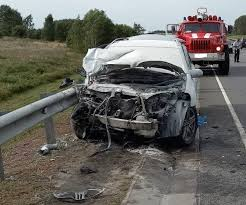car: (74, 27, 204, 159)
